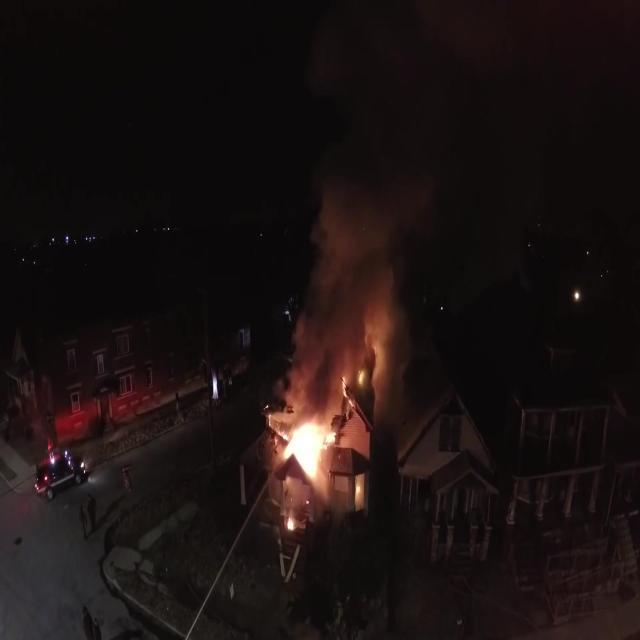Fire: (278, 414, 340, 514)
Smoke: (271, 164, 428, 450)
